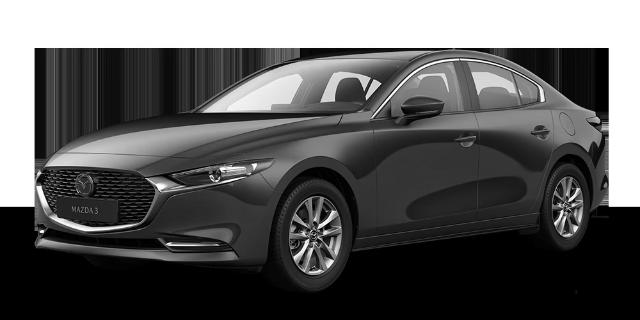sedan: (26, 38, 622, 306)
